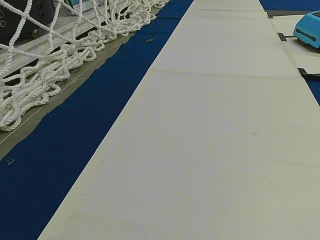car: (293, 9, 319, 48)
